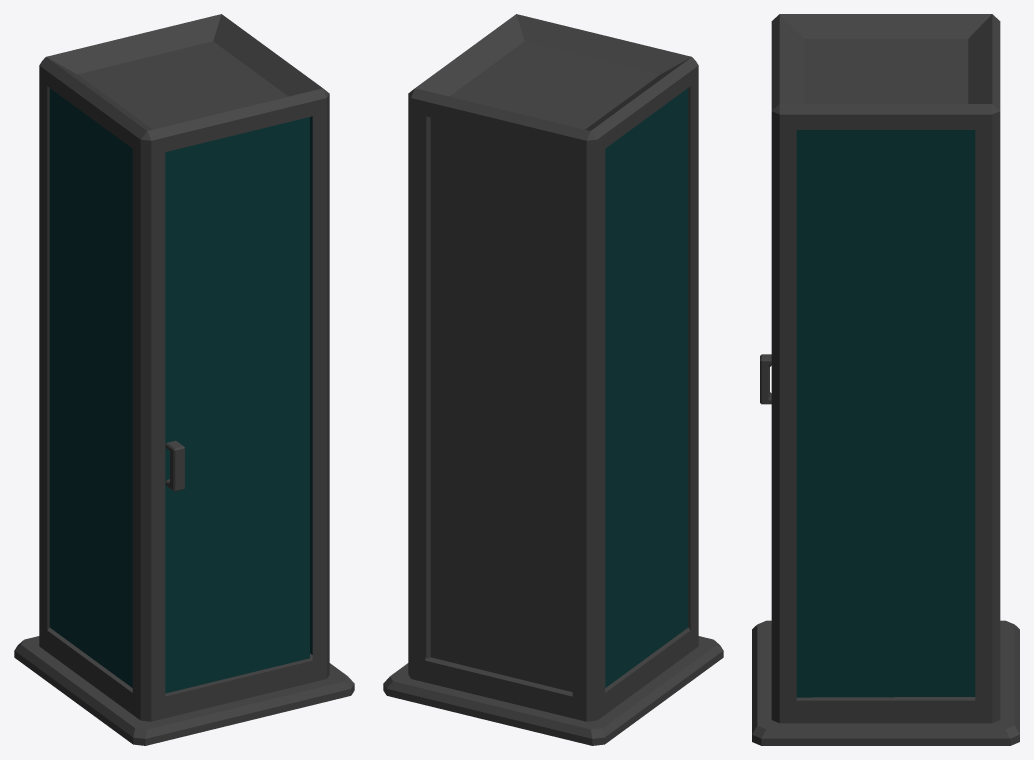
Rendered from hh_shower.glb.
3 views of the same model, side by side, from view 1: azimuth 30°, elevation 25°; view 2: azimuth 150°, elevation 25°; view 3: azimuth 270°, elevation 25° (orthographic). The views are drawn at different scales.
Parts seen in each view (by area): view 1: Shower_Door, Shower_Door001; view 2: Shower_Door; view 3: Shower_Door, Shower_Door001.
Part boxes in pixels (x1,y1,x2,y2): Shower_Door: (14, 14, 354, 745); Shower_Door001: (165, 117, 309, 693); Shower_Door: (383, 14, 723, 745); Shower_Door: (752, 14, 1019, 745); Shower_Door001: (760, 354, 771, 404).
Size of the model in its own units: 0.6982 by 1.81 by 0.6982.
